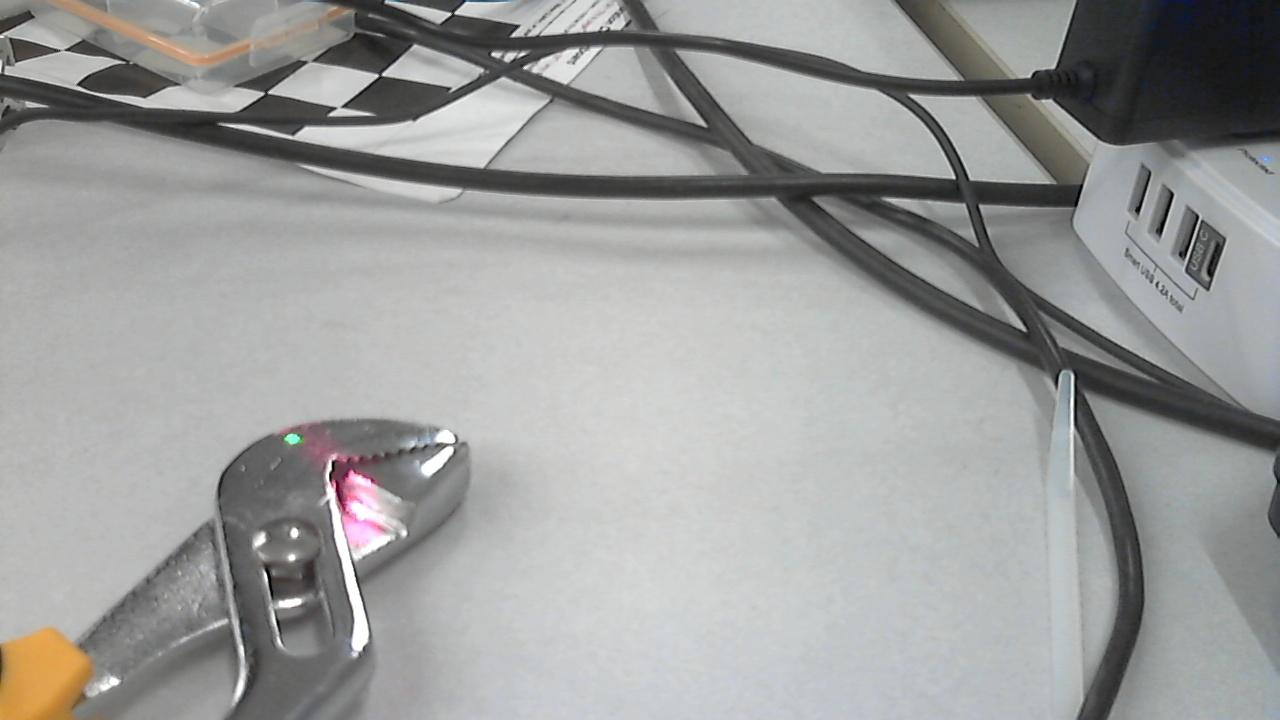Object white rectangular foam block - Material Foam - Color white - Pdfname LpbA: (278, 417, 401, 561)
